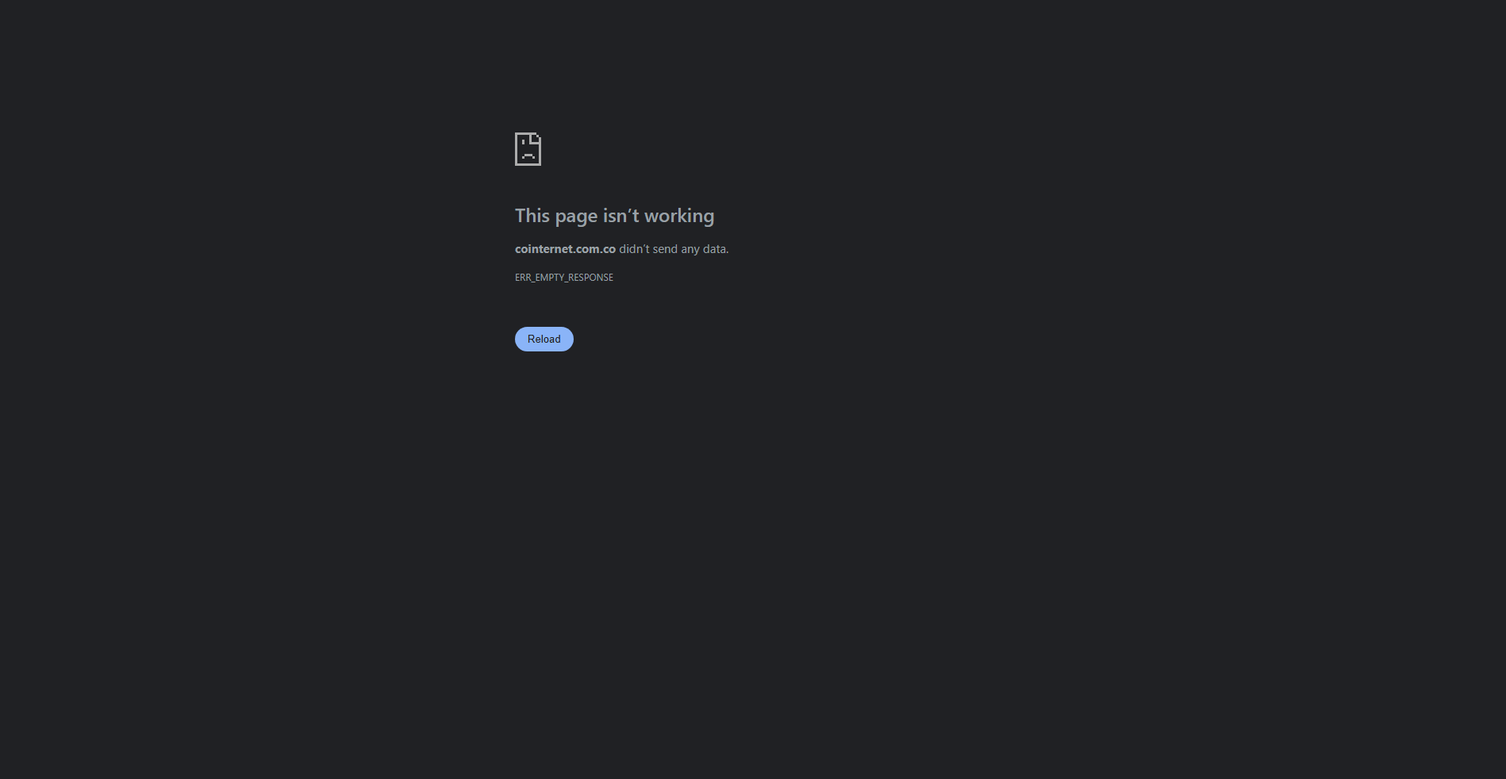general_button: (515, 327, 573, 352)
